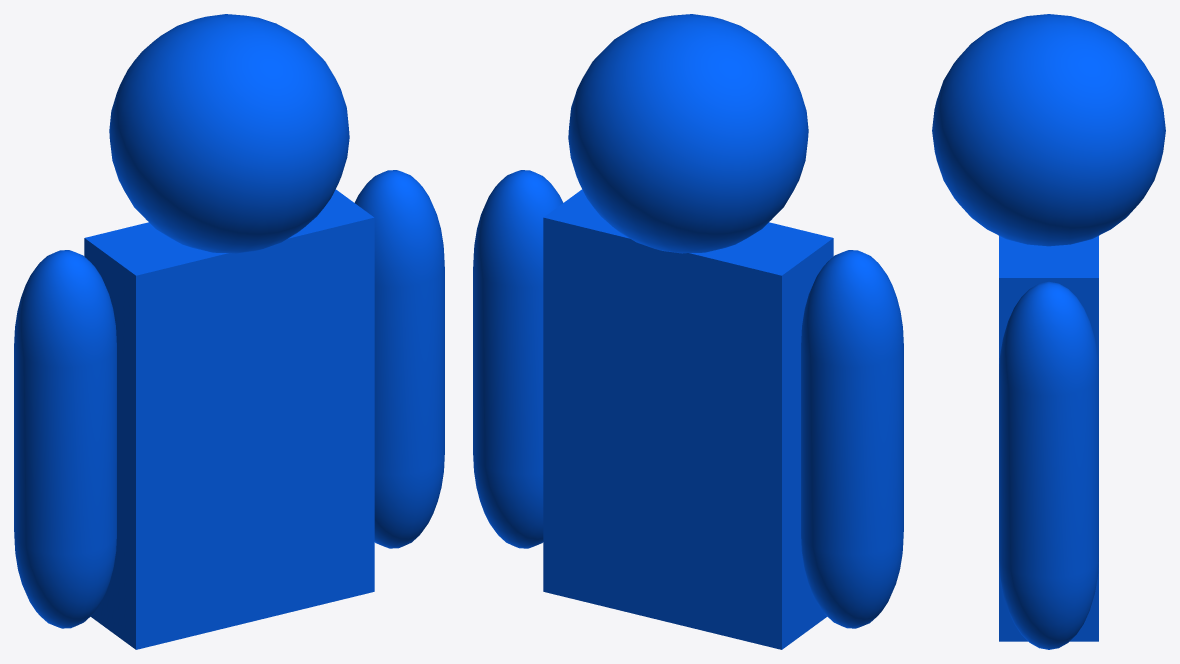
The model's file is Player Import.fbx.
3 views of the same model, side by side, from view 1: azimuth 30°, elevation 25°; view 2: azimuth 150°, elevation 25°; view 3: azimuth 270°, elevation 25° (orthographic). The views are drawn at different scales.
Parts seen in each view (by area): view 1: Chest, Head, Left_Arm, Right_Arm; view 2: Chest, Head, Left_Arm, Right_Arm; view 3: Head, Right_Arm, Chest.
Boxes of the visible parts, x1,y1,x2,y2 form: Chest: (84,189,374,649); Head: (109,14,349,253); Left_Arm: (14,250,116,628); Right_Arm: (354,170,444,548); Chest: (543,189,833,649); Head: (568,14,808,253); Left_Arm: (801,250,903,628); Right_Arm: (473,170,563,548); Head: (932,14,1165,246); Right_Arm: (999,281,1098,649); Chest: (999,236,1098,641).
Size of the model in its own units: 140 by 185 by 70.
